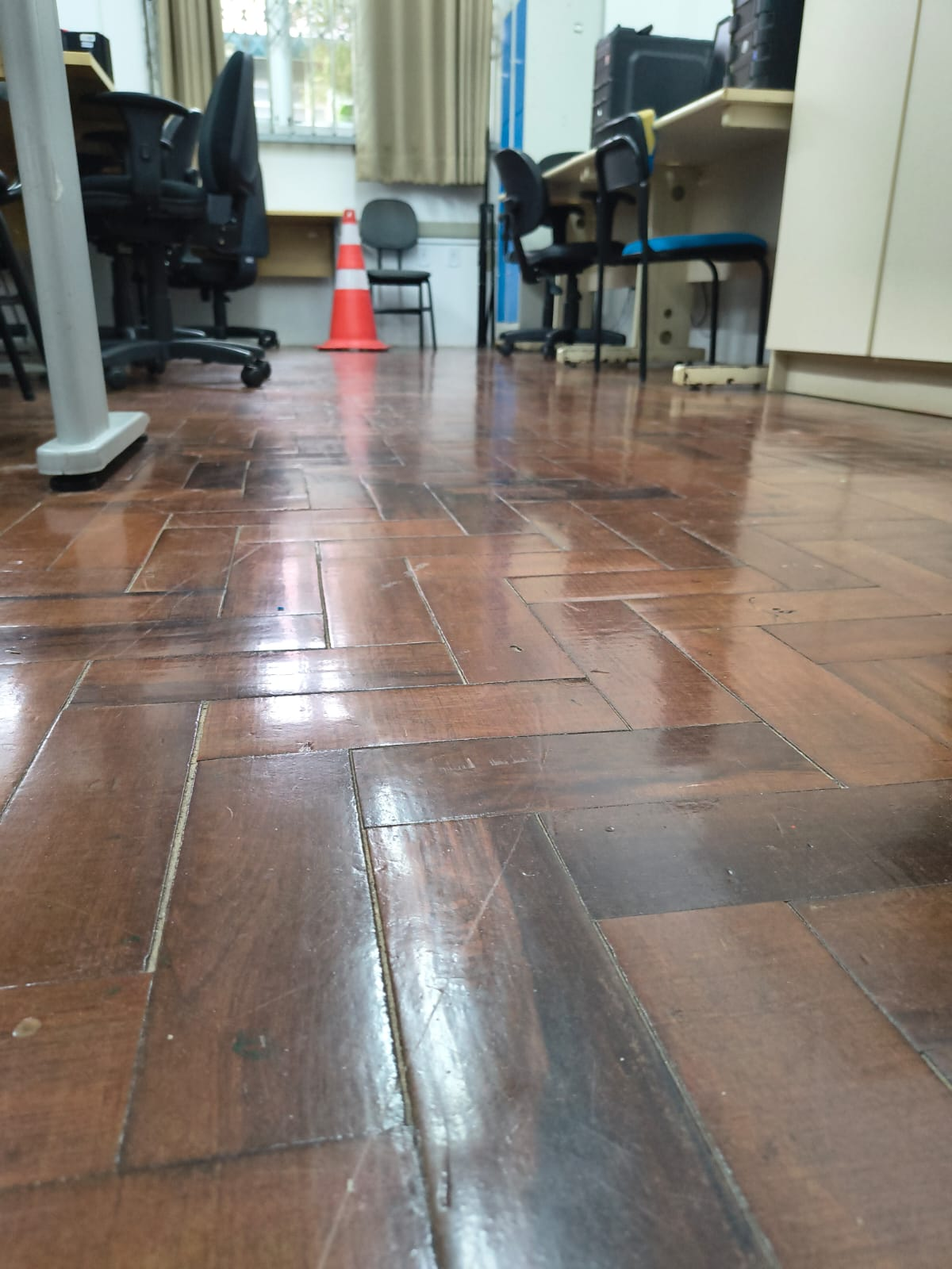cone: (315, 204, 396, 354)
